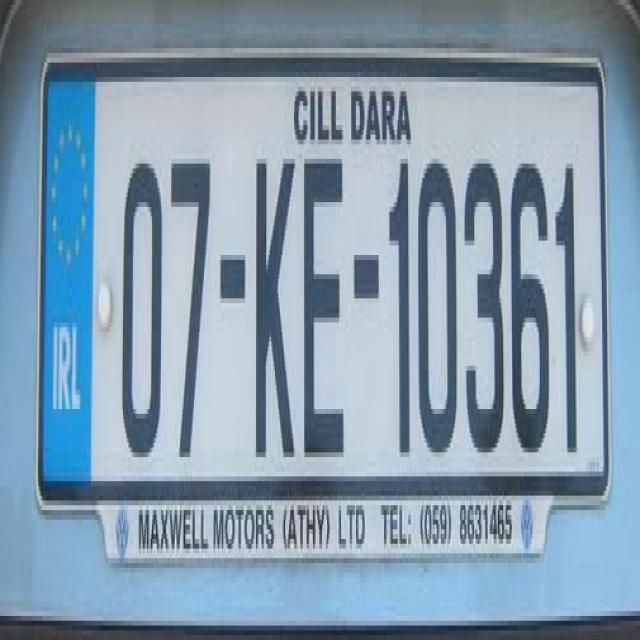EU: (39, 53, 97, 479)
Irlande: (38, 62, 100, 494)
